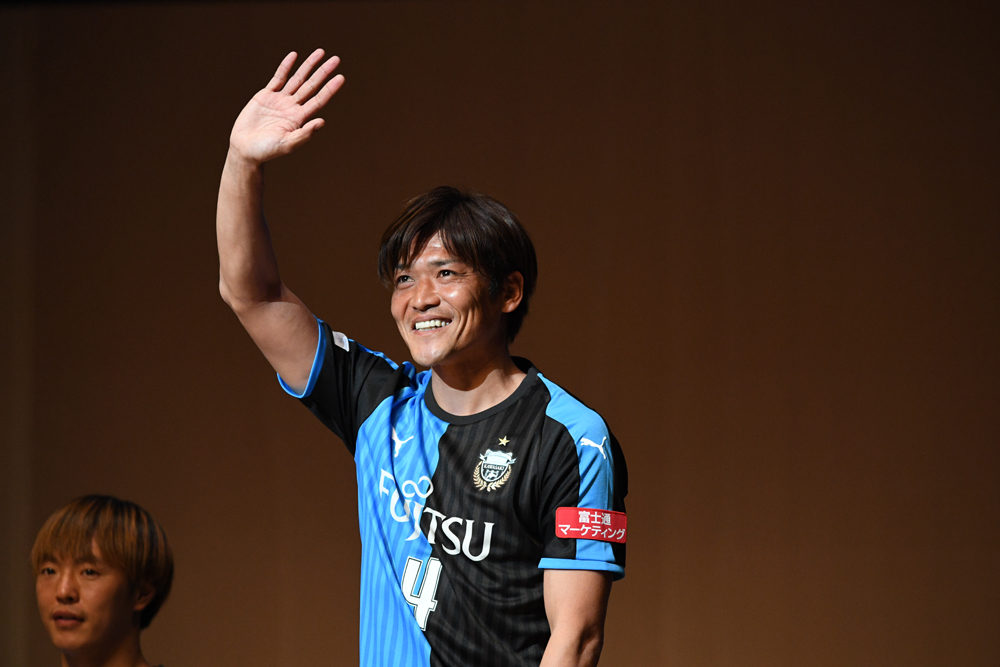face: (390, 231, 496, 367), (33, 533, 119, 650)
hand: (229, 46, 347, 164)
